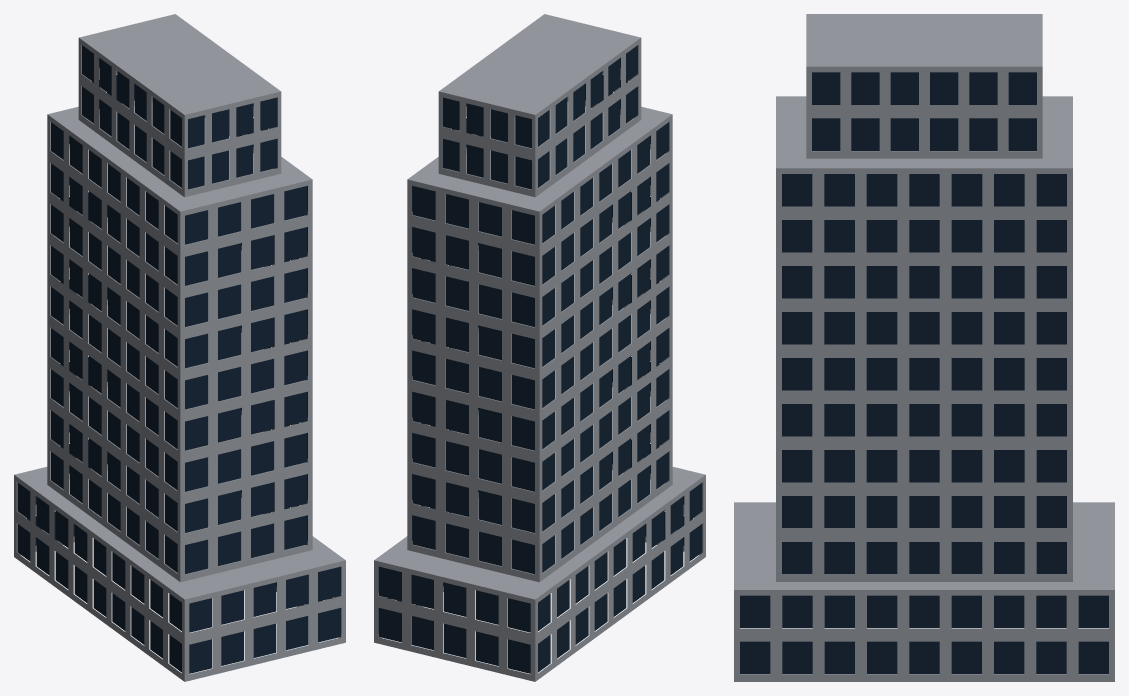
File: Residential Buildings 005.obj
The picture shows the model from 3 angles, left to right: view 1: azimuth 30°, elevation 25°; view 2: azimuth 150°, elevation 25°; view 3: azimuth 270°, elevation 25°; orthographic projection. The views are drawn at different scales.
Visible parts, largest first — view 1: Residential; view 2: Residential; view 3: Residential.
Boxes of the visible parts, left/top/right/bottom form: Residential: left=14, top=14, right=345, bottom=681; Residential: left=374, top=14, right=705, bottom=681; Residential: left=734, top=14, right=1114, bottom=681.
Size of the model in its own units: 12.59 by 39.99 by 23.1.
